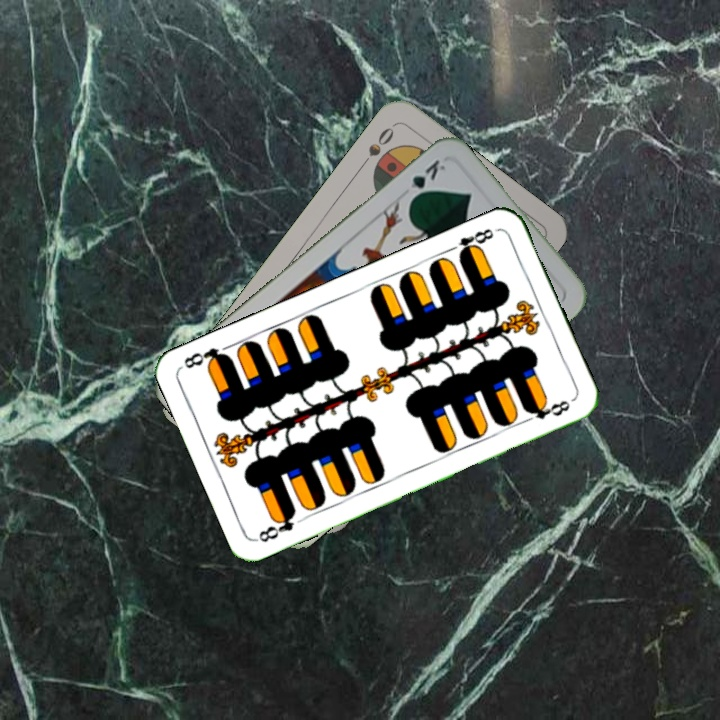E8: (444, 224, 497, 262), (253, 506, 299, 545)
GK: (403, 155, 448, 205)
SO: (356, 120, 398, 170)
